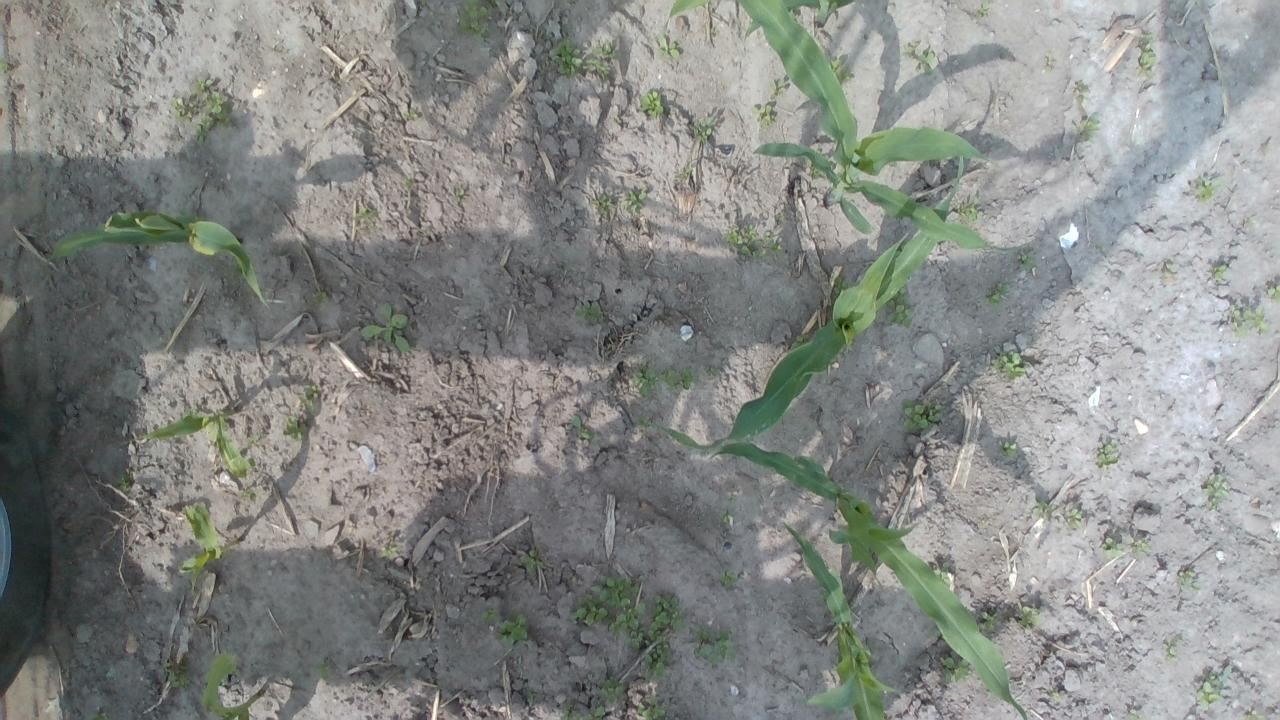Maize: (647, 146, 968, 466), (710, 443, 1026, 720), (739, 0, 1027, 254), (44, 206, 269, 309), (780, 522, 896, 720), (118, 412, 254, 483), (667, 0, 855, 37), (177, 500, 239, 590), (202, 650, 262, 720)
Weeds: (569, 574, 645, 650), (170, 72, 236, 146), (644, 592, 684, 680), (358, 300, 412, 352), (725, 224, 786, 260), (692, 624, 737, 666), (880, 286, 916, 331), (1196, 666, 1230, 712), (457, 0, 492, 42), (584, 42, 620, 82), (1228, 304, 1270, 337), (901, 398, 942, 430), (549, 39, 584, 76), (804, 149, 840, 182), (989, 348, 1025, 381), (495, 613, 531, 646), (1134, 32, 1158, 81), (1202, 472, 1230, 513), (632, 358, 658, 396), (940, 654, 971, 684), (1191, 176, 1228, 201), (658, 368, 698, 391), (162, 658, 192, 688), (688, 116, 716, 146), (353, 204, 380, 235), (560, 703, 606, 720), (1072, 116, 1102, 142), (574, 300, 604, 326), (636, 695, 667, 720), (639, 89, 664, 120), (297, 382, 322, 412), (598, 676, 624, 704), (282, 414, 308, 441), (1016, 602, 1042, 629), (1095, 440, 1119, 469), (622, 187, 647, 214), (984, 283, 1012, 307), (829, 56, 852, 85), (520, 549, 544, 576), (957, 196, 982, 221), (1162, 635, 1184, 663), (977, 607, 1001, 632), (1176, 568, 1202, 591), (658, 30, 679, 58), (1070, 79, 1092, 105), (916, 49, 936, 77), (591, 193, 614, 217), (1064, 503, 1084, 530), (572, 413, 592, 440), (314, 658, 336, 682), (1100, 536, 1124, 558), (751, 102, 772, 127), (1016, 249, 1036, 273), (1032, 497, 1052, 520), (767, 77, 786, 101), (931, 564, 950, 588), (830, 276, 850, 298), (375, 542, 400, 559), (718, 567, 739, 587), (998, 439, 1018, 458), (1131, 536, 1149, 557), (550, 262, 576, 276), (306, 288, 328, 304), (788, 332, 810, 348), (116, 471, 132, 492), (238, 487, 258, 503), (1042, 50, 1056, 72), (480, 607, 500, 622), (1162, 263, 1180, 279), (974, 0, 990, 18), (1266, 282, 1280, 302), (673, 165, 693, 179), (901, 41, 917, 58), (718, 509, 736, 524), (1126, 708, 1146, 720), (1244, 710, 1268, 720), (1213, 264, 1227, 281), (1242, 214, 1257, 229), (402, 108, 419, 121), (244, 434, 260, 446), (0, 57, 12, 73), (633, 417, 650, 428), (704, 366, 719, 377), (454, 186, 464, 202), (1090, 241, 1104, 252), (1050, 690, 1062, 702), (404, 175, 414, 188), (92, 713, 110, 720), (527, 692, 538, 702), (725, 495, 738, 503), (934, 628, 944, 638), (787, 7, 795, 18), (536, 64, 544, 74), (820, 592, 826, 603), (613, 115, 621, 123), (492, 0, 498, 5)
